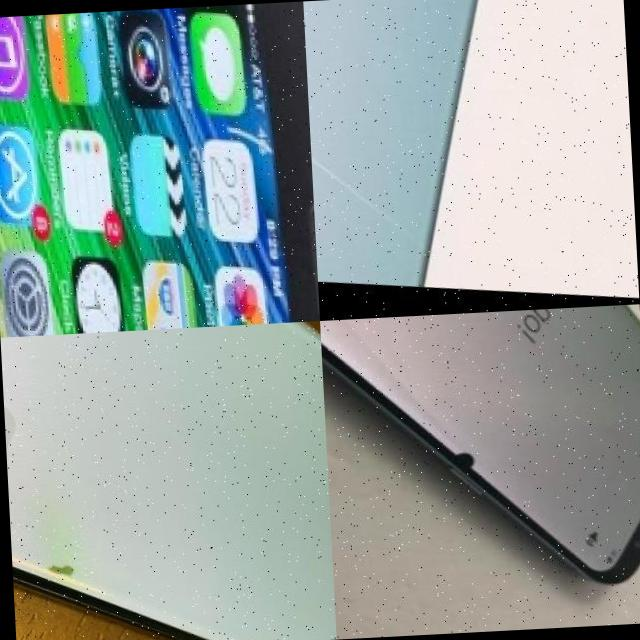dead pixel: (10, 528, 126, 626), (436, 433, 506, 496)
